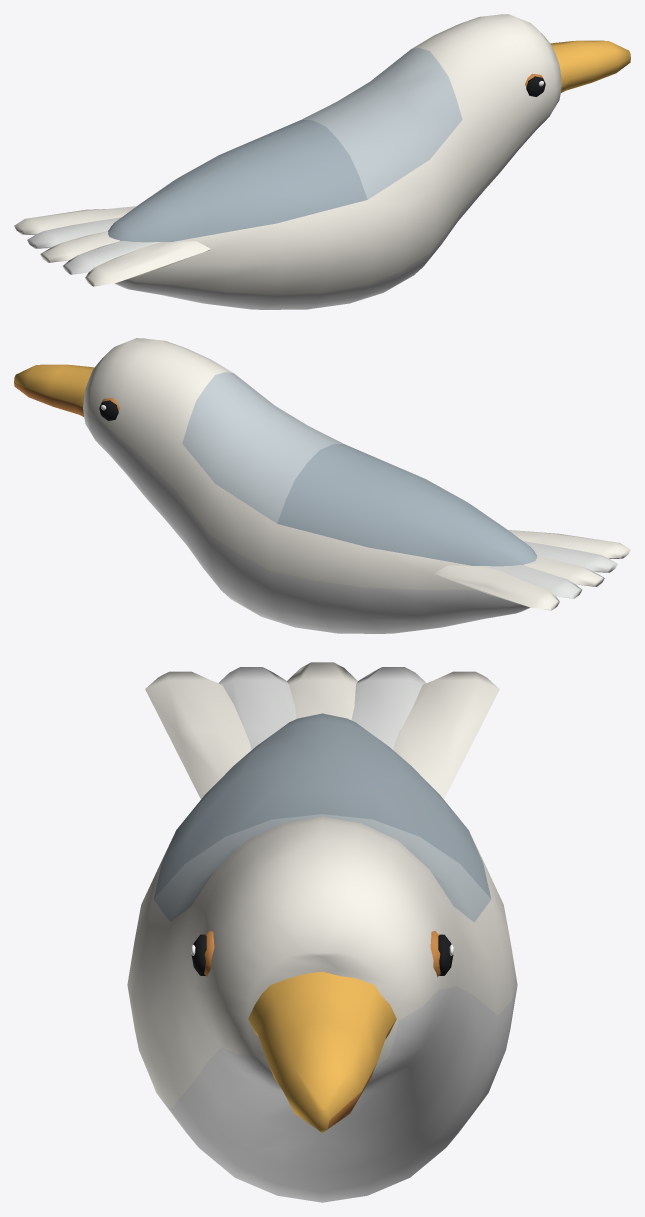
The model's file is SM_GullBody.fbx.
3 renders of one model, top to bottom at view 1: azimuth 30°, elevation 25°; view 2: azimuth 150°, elevation 25°; view 3: azimuth 270°, elevation 25°, orthographic. The views are drawn at different scales.
Parts seen in each view (by area): view 1: SM_GullBody; view 2: SM_GullBody; view 3: SM_GullBody.
Part boxes in pixels (x1,y1,x2,y2): SM_GullBody: (14, 14, 630, 309); SM_GullBody: (14, 338, 630, 633); SM_GullBody: (127, 662, 517, 1202).
Bounding box in the file's own units: 61.5 × 17.8 × 23.6.
1 material, 1 textured.
